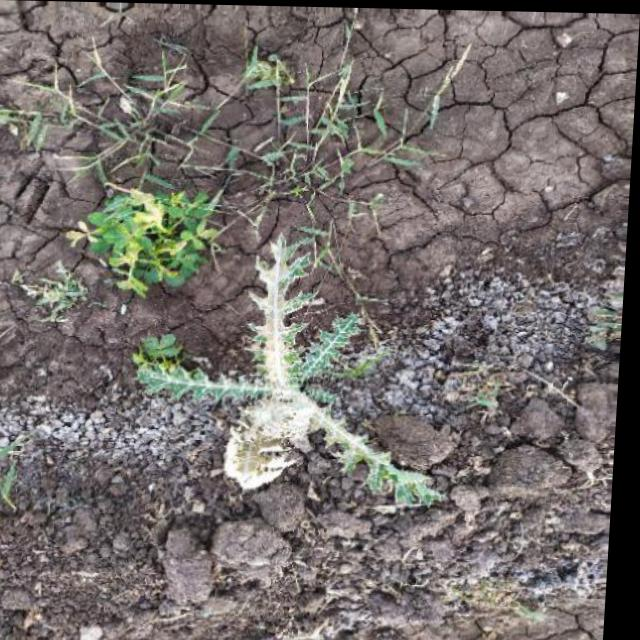weed: (131, 285, 447, 501), (224, 53, 412, 218), (69, 176, 228, 295), (50, 74, 210, 186)
